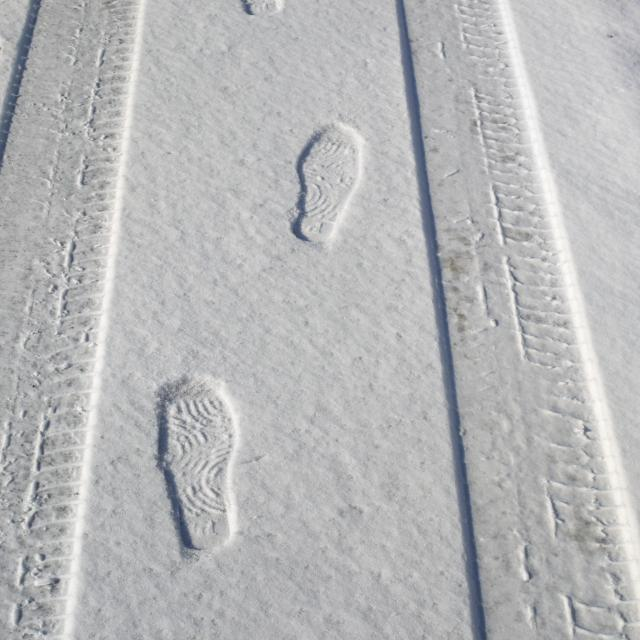human_footprint: (112, 103, 398, 604)
